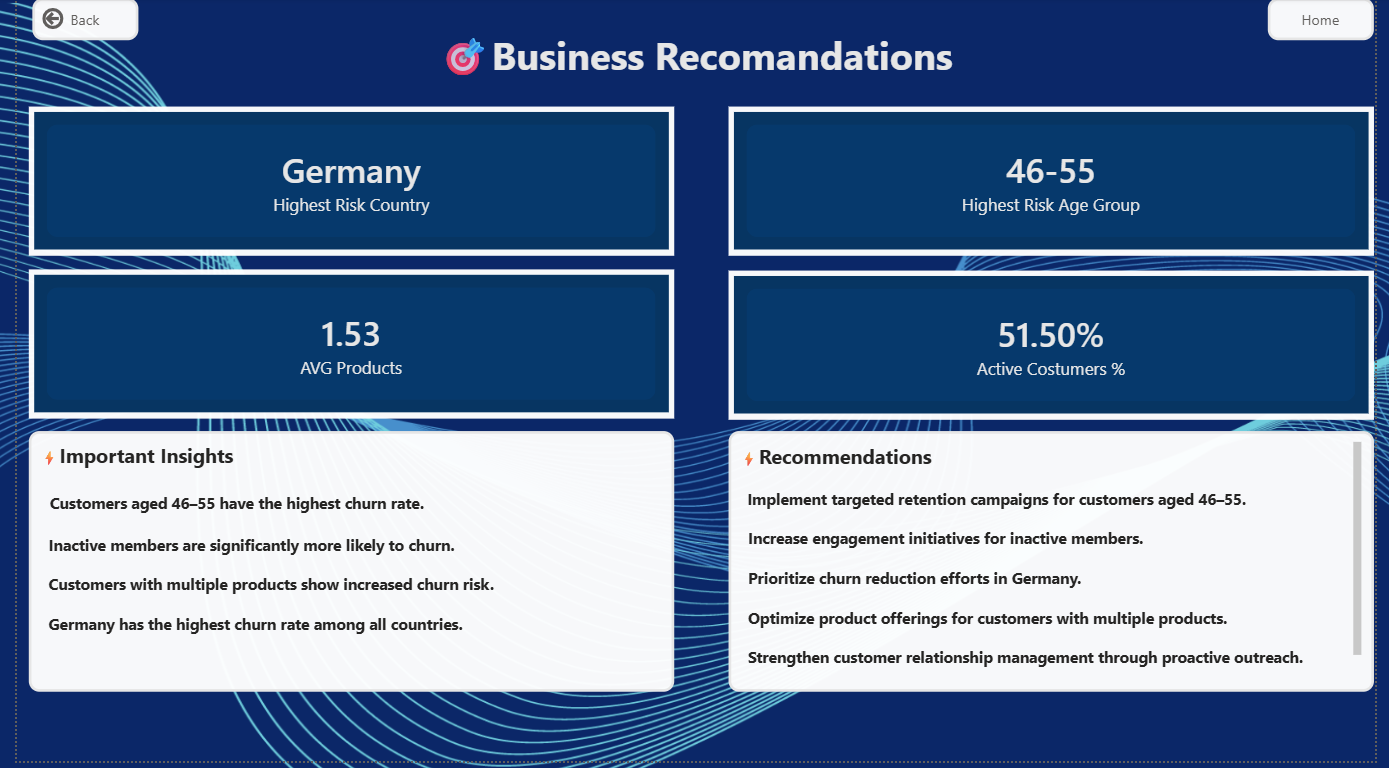

Layout of this report page (visuals, bound fields, positions):
{"tool":"powerbi","page":{"name":"🎯Business Recomandations","canvas":[1280,720],"ordinal":3},"visuals":[{"type":"cardVisual","fields":{"Data":["Bank_churn.Highest Churn Country"]},"box":[11.3,102.1,608.5,140.4],"z":0},{"type":"cardVisual","fields":{"Data":["Bank_churn.Highest Churn Age Group"]},"box":[670.9,102.1,608.5,140.4],"z":1000},{"type":"cardVisual","fields":{"Data":["Bank_churn.Active Costumers %"]},"box":[670.9,256.7,608.5,140.4],"z":2000},{"type":"cardVisual","fields":{"Data":["Bank_churn.AVG Products"]},"box":[11.3,255.3,608.5,140.4],"z":3000},{"type":"textbox","box":[11.3,408.5,608.5,245.4],"z":4000},{"type":"textbox","box":[670.9,408.5,608.5,245.4],"z":5000},{"type":"actionButton","box":[14.5,0,100.1,40],"z":6000},{"type":"actionButton","box":[1179.2,0,100.1,40],"z":7000}]}

Visuals, with their boxes in screenshot pixels (x1, y1, x2, y2), scaled from the page's 1280x720 canvas onto the 1389x768 screenshot:
cardVisual - Bank_churn.Highest Churn Country: [12, 109, 673, 259]
cardVisual - Bank_churn.Highest Churn Age Group: [728, 109, 1388, 259]
cardVisual - Bank_churn.Active Costumers %: [728, 274, 1388, 424]
cardVisual - Bank_churn.AVG Products: [12, 272, 673, 422]
textbox: [12, 436, 673, 697]
textbox: [728, 436, 1388, 697]
actionButton: [16, 0, 124, 43]
actionButton: [1280, 0, 1388, 43]
